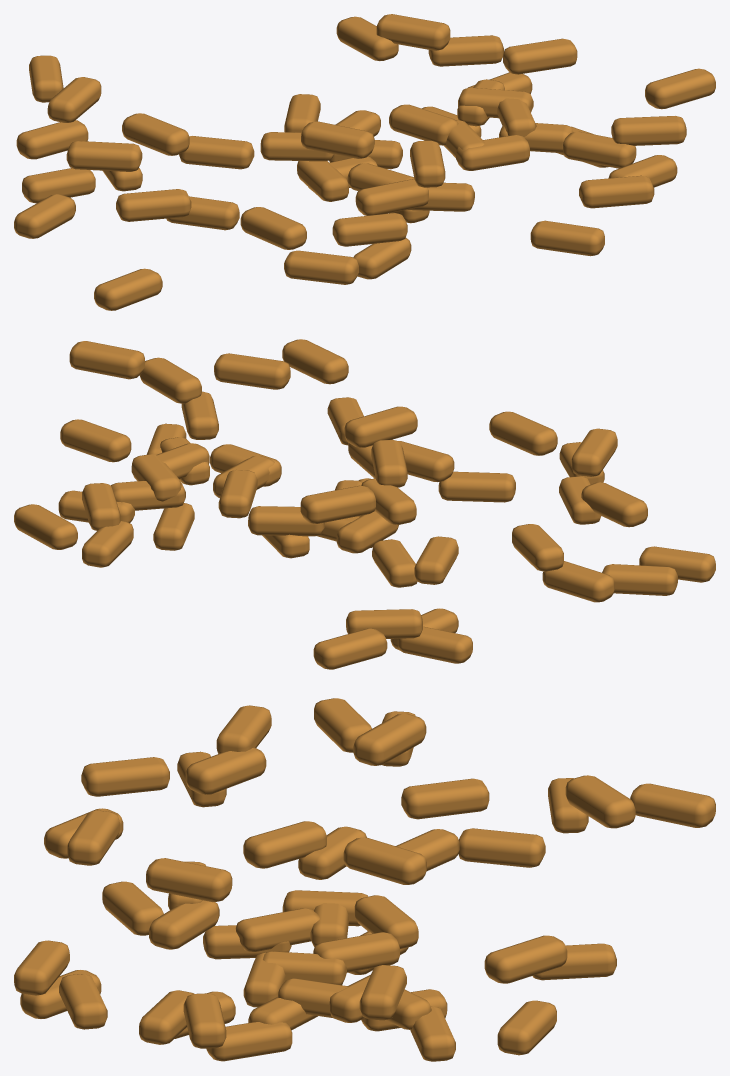
The model's file is Onion_Cooked.glb.
3 renders of one model, top to bottom at view 1: azimuth 30°, elevation 25°; view 2: azimuth 150°, elevation 25°; view 3: azimuth 270°, elevation 25°, orthographic. The views are drawn at different scales.
Visible parts, largest first — view 1: Onion_Cooked; view 2: Onion_Cooked; view 3: Onion_Cooked.
Part boxes in pixels (x1=…): Onion_Cooked: x1=14, y1=14, x2=715, y2=310; Onion_Cooked: x1=14, y1=339, x2=715, y2=669; Onion_Cooked: x1=14, y1=698, x2=715, y2=1061.
Size of the model in its own units: 0.1192 by 0.0156 by 0.0961.
